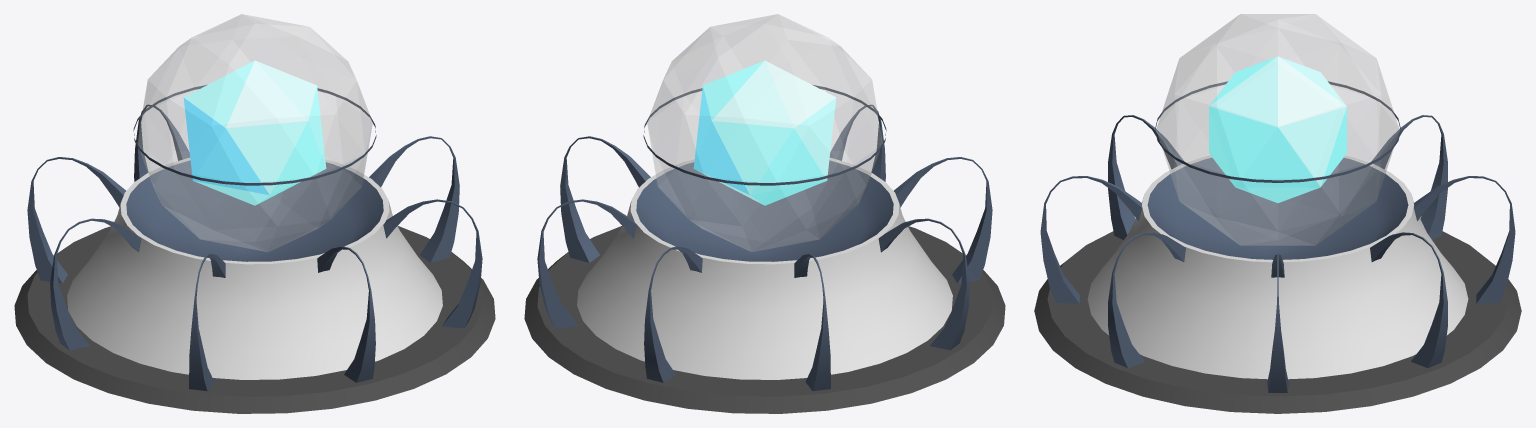
The model's file is Central Cortex.glb.
3 renders of one model, left to right at view 1: azimuth 30°, elevation 25°; view 2: azimuth 150°, elevation 25°; view 3: azimuth 270°, elevation 25°, orthographic.
Visible parts, largest first — view 1: Circle.001, Icosphere, Circle, Icosphere.001, Cube, Circle.002; view 2: Circle.001, Icosphere, Circle, Icosphere.001, Cube, Circle.002; view 3: Circle.001, Icosphere, Circle, Icosphere.001, Cube, Circle.002.
Boxes of the visible parts, <box> form: Circle.001: <box>67,158,442,379</box>; Icosphere: <box>137,14,372,251</box>; Circle: <box>14,226,495,413</box>; Icosphere.001: <box>183,60,326,205</box>; Cube: <box>27,104,482,391</box>; Circle.002: <box>133,85,376,185</box>; Circle.001: <box>577,158,952,379</box>; Icosphere: <box>647,14,882,251</box>; Circle: <box>524,226,1005,413</box>; Icosphere.001: <box>693,60,836,205</box>; Cube: <box>537,104,992,391</box>; Circle.002: <box>643,85,886,185</box>; Circle.001: <box>1087,155,1468,379</box>; Icosphere: <box>1156,14,1399,245</box>; Circle: <box>1034,231,1521,413</box>; Icosphere.001: <box>1209,56,1346,202</box>; Cube: <box>1040,115,1515,392</box>; Circle.002: <box>1155,81,1400,182</box>.
Size of the model in its own units: 4 by 2.66 by 4.
